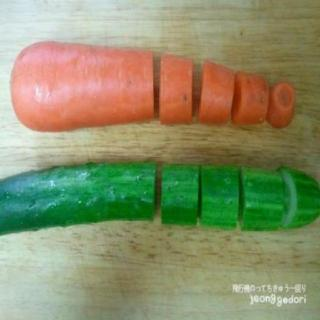carrot: (10, 41, 154, 132)
